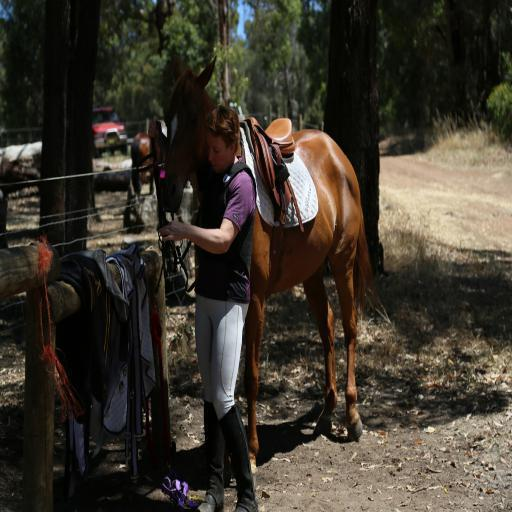horse: (160, 51, 380, 498), (130, 129, 168, 196)
